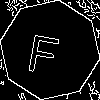F: (25, 25, 63, 75)
